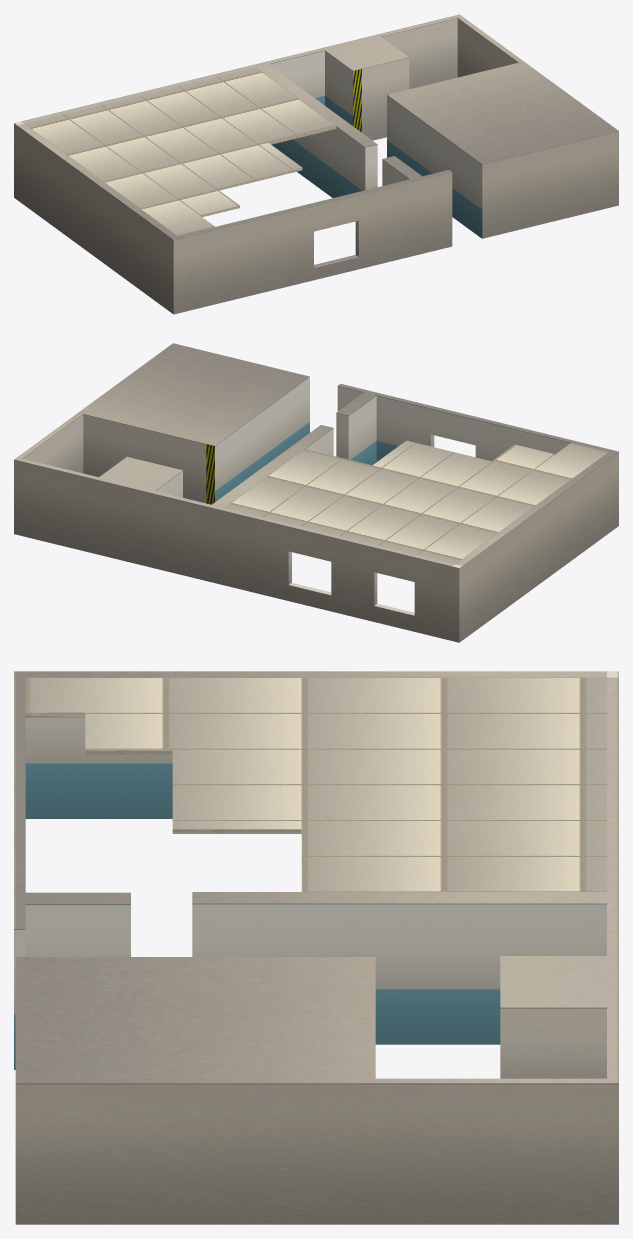
Rendered from Laboratory.FBX.
3 renders of one model, top to bottom at view 1: azimuth 30°, elevation 25°; view 2: azimuth 150°, elevation 25°; view 3: azimuth 270°, elevation 25°, orthographic. The views are drawn at different scales.
Visible parts, largest first — view 1: LabWalls, LabCeiling; view 2: LabWalls, LabCeiling; view 3: LabWalls, LabCeiling.
Boxes of the visible parts, x1,y1,x2,y2 form: LabWalls: (14, 14, 618, 314); LabCeiling: (24, 67, 336, 235); LabWalls: (14, 343, 618, 642); LabCeiling: (224, 440, 608, 564); LabWalls: (14, 671, 618, 1224); LabCeiling: (25, 677, 606, 891).
Size of the model in its own units: 866 by 138 by 537.
